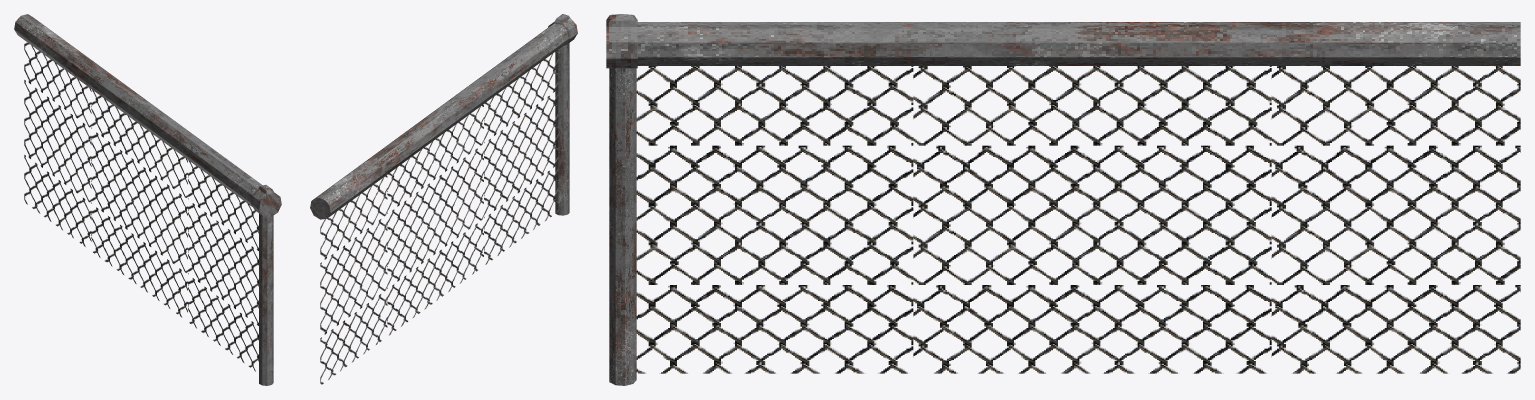
Rendered from chainlink_fence.gltf.
The picture shows the model from 3 angles, left to right: view 1: azimuth 30°, elevation 25°; view 2: azimuth 150°, elevation 25°; view 3: azimuth 270°, elevation 25°; orthographic projection. The views are drawn at different scales.
Visible parts, largest first — view 1: Cylinder-col, Cylinder.001; view 2: Cylinder-col, Cylinder.001; view 3: Cylinder-col, Cylinder.001.
Boxes of the visible parts, x1,y1,x2,y2 form: Cylinder-col: (14,14,281,371); Cylinder.001: (259,213,273,385); Cylinder-col: (310,14,577,384); Cylinder.001: (555,43,569,215); Cylinder-col: (606,14,1520,373); Cylinder.001: (609,68,636,385).
Size of the model in its own units: 0.2167 by 1.8 by 4.07.
2 materials, 2 textured.
